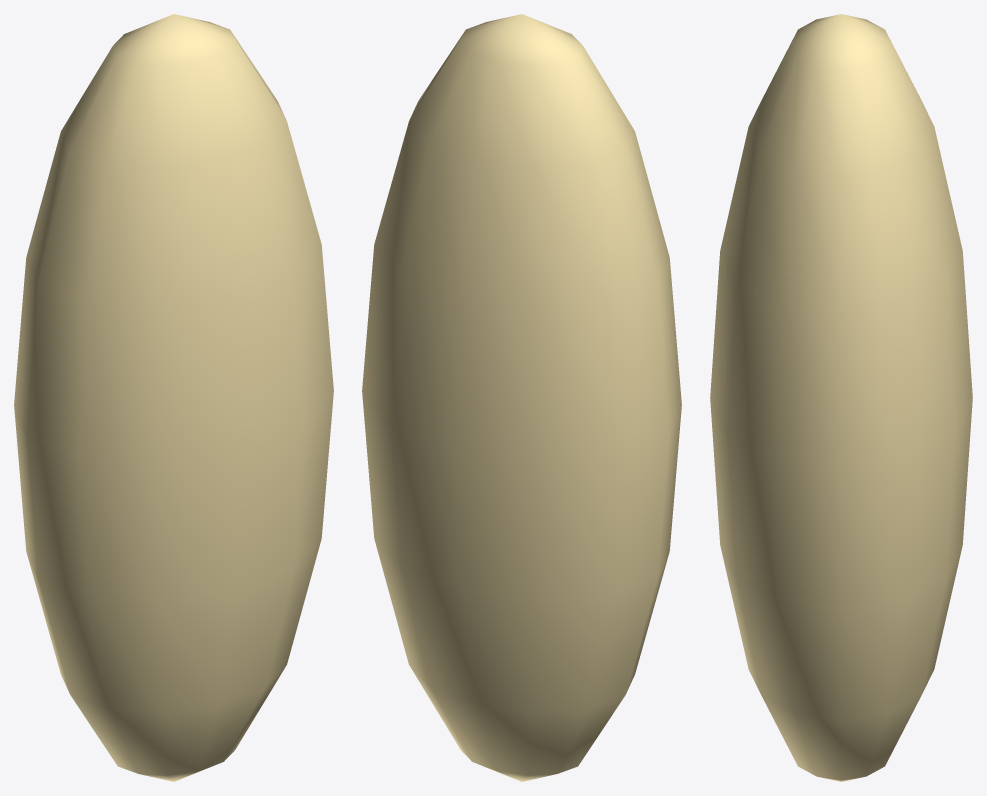
The model's file is strawberry-seed.glb.
The picture shows the model from 3 angles, left to right: view 1: azimuth 30°, elevation 25°; view 2: azimuth 150°, elevation 25°; view 3: azimuth 270°, elevation 25°; orthographic projection.
Visible parts, largest first — view 1: strawberry-seed; view 2: strawberry-seed; view 3: strawberry-seed.
Part boxes in pixels (box(x1,y1,x2,y2)): strawberry-seed: box(14, 14, 333, 781); strawberry-seed: box(362, 14, 681, 781); strawberry-seed: box(710, 14, 972, 781).
Size of the model in its own units: 0.8 by 2 by 0.62.
